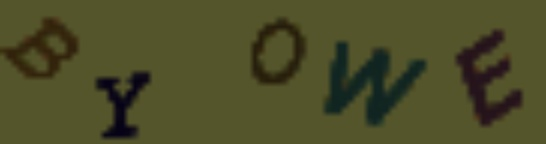B: (1, 13, 83, 84)
E: (452, 24, 528, 130)
O: (248, 16, 310, 88)
W: (320, 37, 428, 129)
Y: (92, 65, 156, 143)
